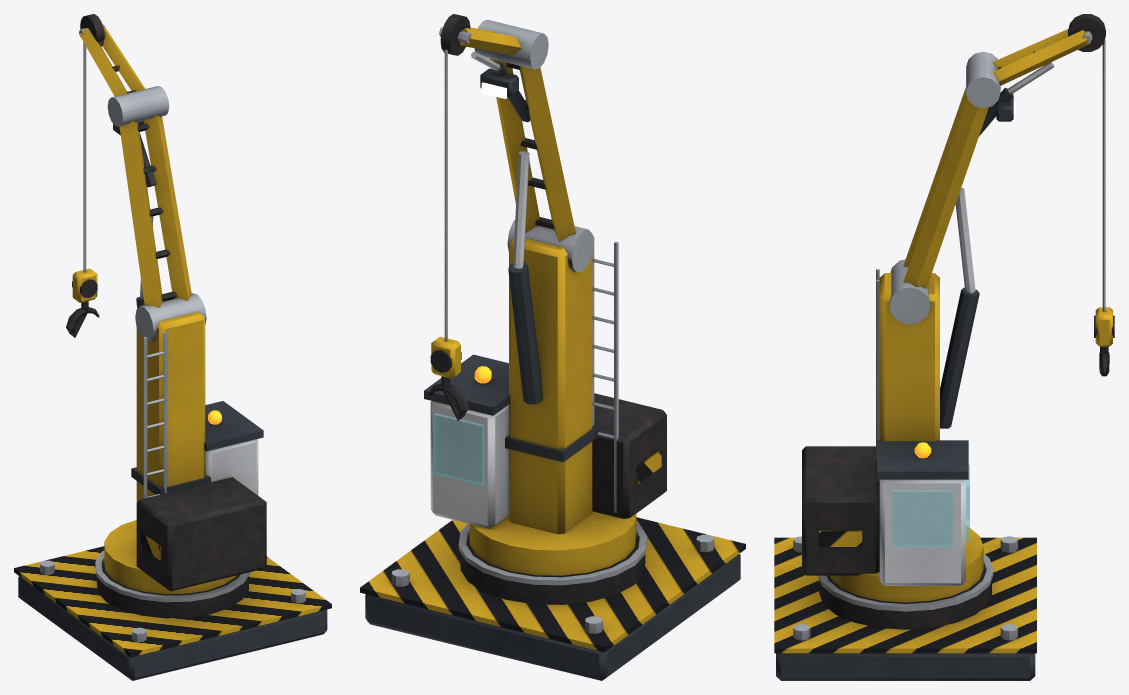
Rendered from grua_carga.fbx.
3 views of the same model, side by side, from view 1: azimuth 30°, elevation 25°; view 2: azimuth 150°, elevation 25°; view 3: azimuth 270°, elevation 25° (orthographic). The views are drawn at different scales.
Parts seen in each view (by area): view 1: grua_carga_torre_giratoria, grua_carga, grua_carga_brazo_1, grua_carga_brazo_2, grua_carga_gancho; view 2: grua_carga_torre_giratoria, grua_carga, grua_carga_brazo_1, grua_carga_cristal, grua_carga_gancho, grua_carga_brazo_2; view 3: grua_carga_torre_giratoria, grua_carga, grua_carga_brazo_1, grua_carga_cristal, grua_carga_brazo_2, grua_carga_gancho.
Part boxes in pixels (left/top/right/bottom): grua_carga_torre_giratoria: left=104, top=297, right=266, bottom=594; grua_carga: left=14, top=86, right=331, bottom=680; grua_carga_brazo_1: left=113, top=115, right=191, bottom=307; grua_carga_brazo_2: left=79, top=14, right=145, bottom=96; grua_carga_gancho: left=66, top=42, right=99, bottom=337; grua_carga_torre_giratoria: left=424, top=236, right=666, bottom=575; grua_carga: left=360, top=20, right=745, bottom=680; grua_carga_brazo_1: left=480, top=58, right=575, bottom=268; grua_carga_cristal: left=434, top=413, right=483, bottom=484; grua_carga_gancho: left=428, top=49, right=469, bottom=420; grua_carga_brazo_2: left=439, top=14, right=521, bottom=70; grua_carga_torre_giratoria: left=802, top=268, right=983, bottom=602; grua_carga: left=774, top=51, right=1036, bottom=680; grua_carga_brazo_1: left=903, top=87, right=1013, bottom=293; grua_carga_cristal: left=892, top=464, right=969, bottom=546; grua_carga_brazo_2: left=993, top=14, right=1105, bottom=93; grua_carga_gancho: left=1094, top=40, right=1114, bottom=376.
Size of the model in its own units: 3.04 by 7.82 by 3.94.
Materials: 3 (3 with a texture image).
